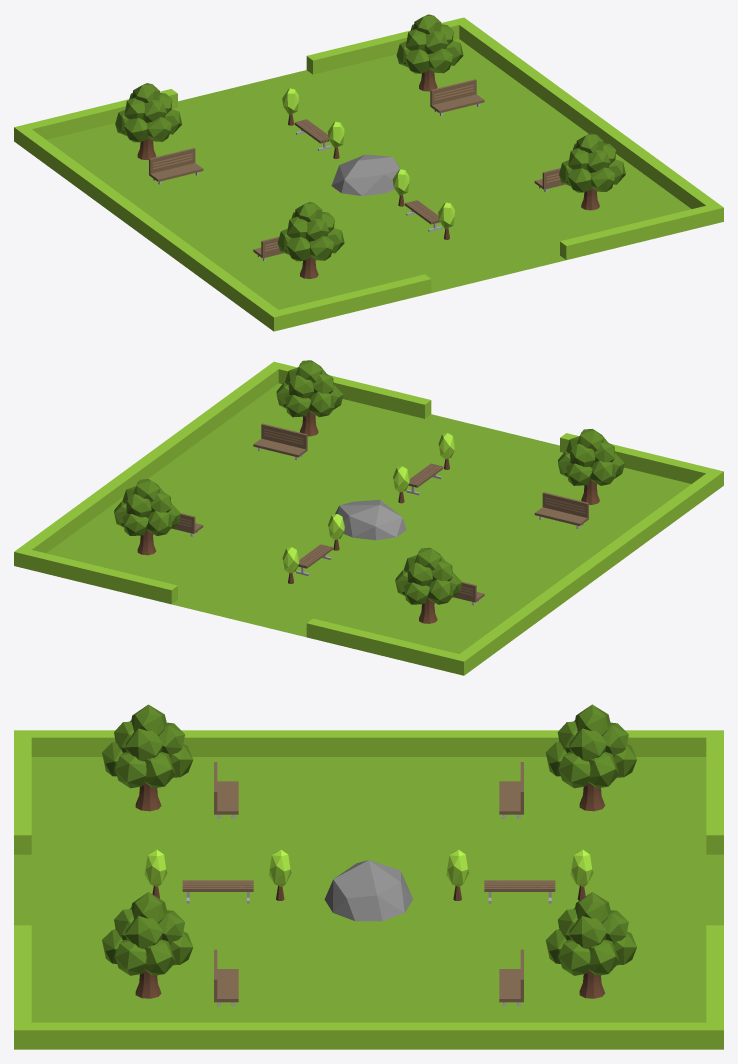
The model's file is park.gltf.
3 views of the same model, one above another, from view 1: azimuth 30°, elevation 25°; view 2: azimuth 150°, elevation 25°; view 3: azimuth 270°, elevation 25° (orthographic). The views are drawn at different scales.
Parts seen in each view (by area): view 1: Natures_Grass Tile_Plane.010, Natures_Grass Fence_Cube.2536 (×6), Natures_Big Tree_Mesh.008 (×4), Props_Bench_2_Cube.022 (×2), Natures_Rock_Big_Mesh.001; view 2: Natures_Grass Tile_Plane.010, Natures_Grass Fence_Cube.2536 (×6), Natures_Big Tree_Mesh.008 (×4), Props_Bench_2_Cube.022 (×2), Natures_Rock_Big_Mesh.001, Props_Bench_1_Cube.023; view 3: Natures_Grass Tile_Plane.010, Natures_Grass Fence_Cube.2536 (×6), Natures_Big Tree_Mesh.008 (×4), Natures_Rock_Big_Mesh.001, Props_Bench_2_Cube.022 (×4), Natures_Bush_01_Cylinder (×4), Props_Bench_1_Cube.023 (×2).
Boxes of the visible parts, <box> form: Natures_Grass Tile_Plane.010: <box>46,39,691,309</box>; Natures_Grass Fence_Cube.2536 (×6): <box>14,17,723,331</box>; Natures_Big Tree_Mesh.008 (×4): <box>115,14,625,278</box>; Props_Bench_2_Cube.022 (×2): <box>149,79,484,184</box>; Natures_Rock_Big_Mesh.001: <box>331,154,400,195</box>; Natures_Grass Tile_Plane.010: <box>46,383,691,653</box>; Natures_Grass Fence_Cube.2536 (×6): <box>14,361,723,675</box>; Natures_Big Tree_Mesh.008 (×4): <box>114,360,624,623</box>; Props_Bench_2_Cube.022 (×2): <box>253,423,588,528</box>; Natures_Rock_Big_Mesh.001: <box>335,499,406,540</box>; Props_Bench_1_Cube.023: <box>406,463,443,495</box>; Natures_Grass Tile_Plane.010: <box>14,757,723,1022</box>; Natures_Grass Fence_Cube.2536 (×6): <box>14,730,723,1049</box>; Natures_Big Tree_Mesh.008 (×4): <box>102,704,636,998</box>; Natures_Rock_Big_Mesh.001: <box>324,860,412,921</box>; Props_Bench_2_Cube.022 (×4): <box>214,762,523,1006</box>; Natures_Bush_01_Cylinder (×4): <box>144,849,593,900</box>; Props_Bench_1_Cube.023 (×2): <box>182,880,555,903</box>.
Size of the model in its own units: 40 by 6.12 by 40.
Materials: 7 (7 with a texture image).
